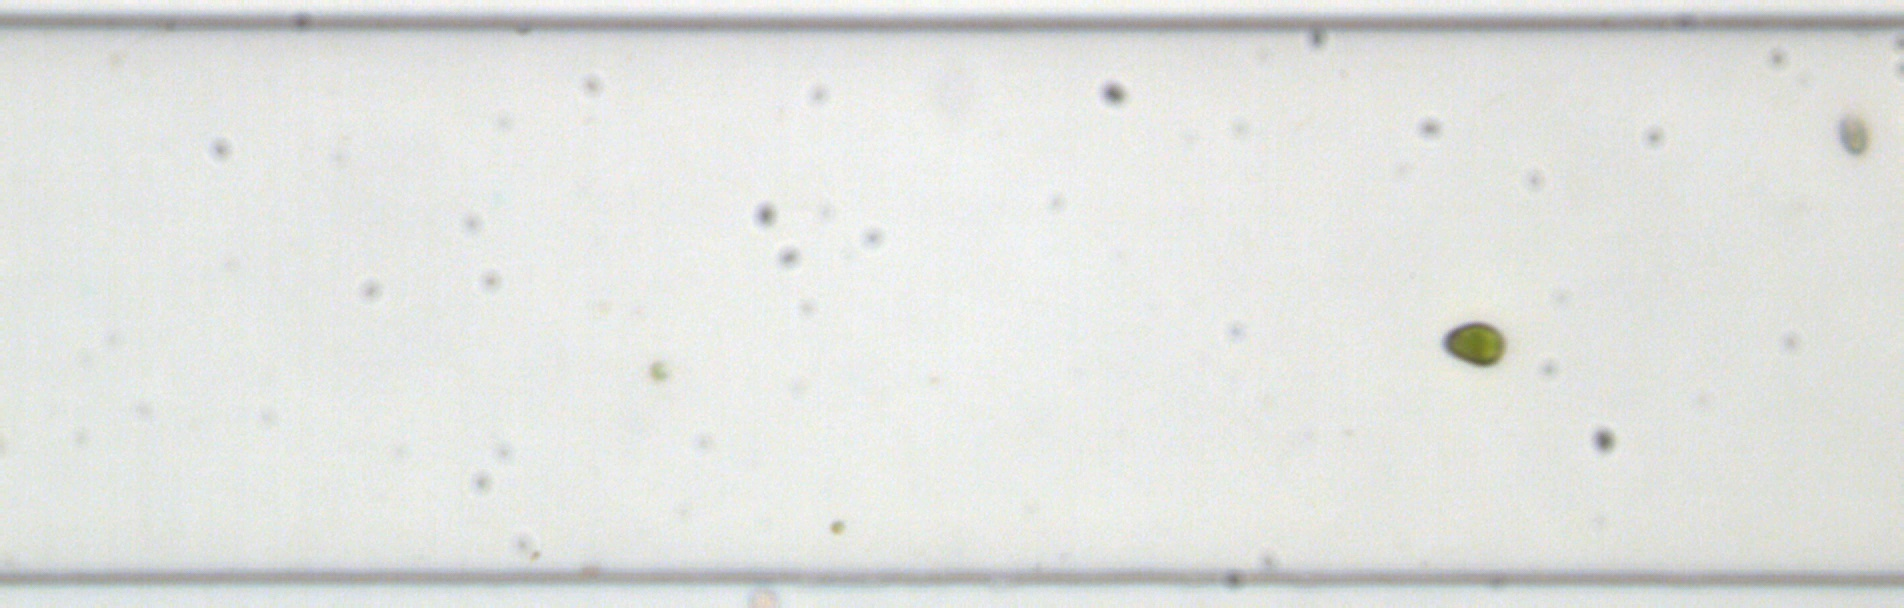Chlorella: (645, 357, 669, 381), (828, 517, 846, 534)
Dunaliella salina: (1834, 110, 1874, 157)
Platymonas: (1436, 319, 1507, 369)
